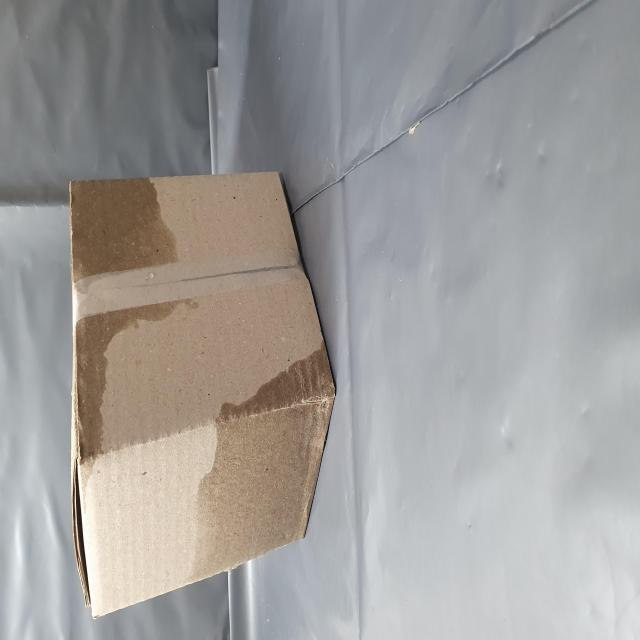wet: (24, 326, 178, 582), (102, 120, 290, 317)
